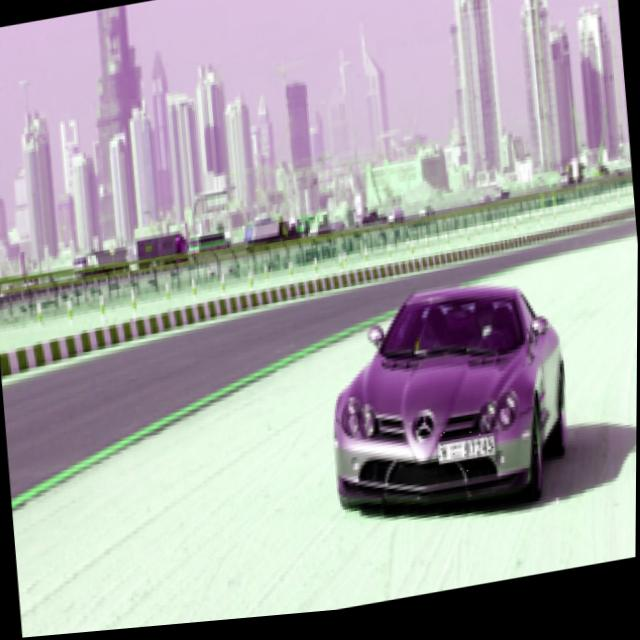license_plate: (434, 432, 502, 485)
